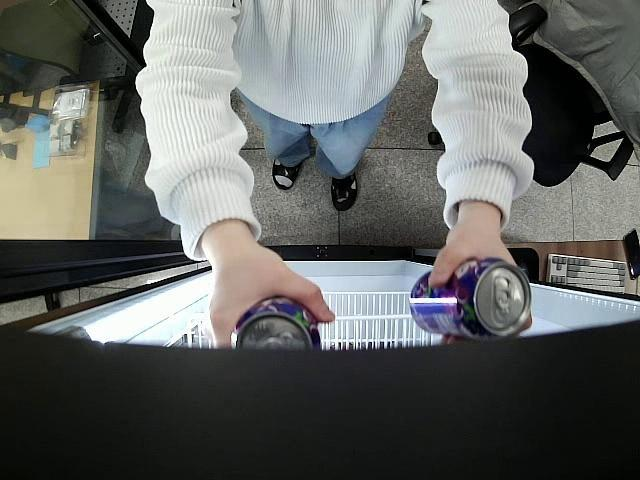14_welchsGrape: (408, 256, 532, 340), (234, 295, 321, 356)
